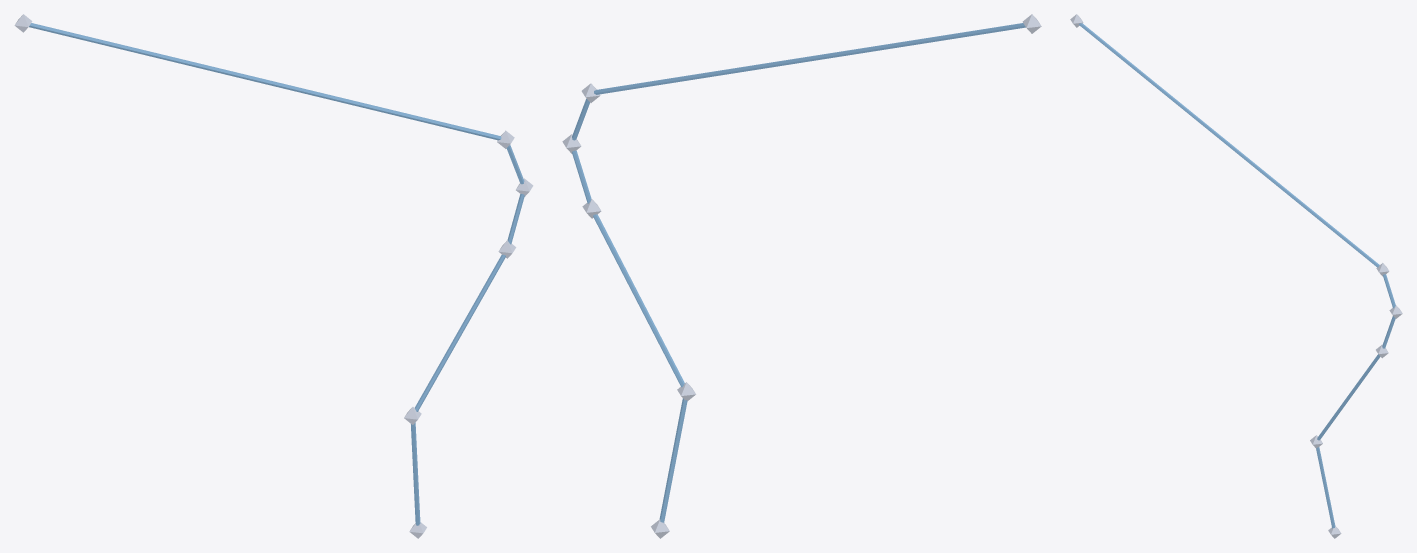
Rendered from constellation-hor.glb.
3 renders of one model, left to right at view 1: azimuth 30°, elevation 25°; view 2: azimuth 150°, elevation 25°; view 3: azimuth 330°, elevation 25°, orthographic. The views are drawn at different scales.
Bounding box in the file's own units: 1.83 × 2.16 × 0.3084.
